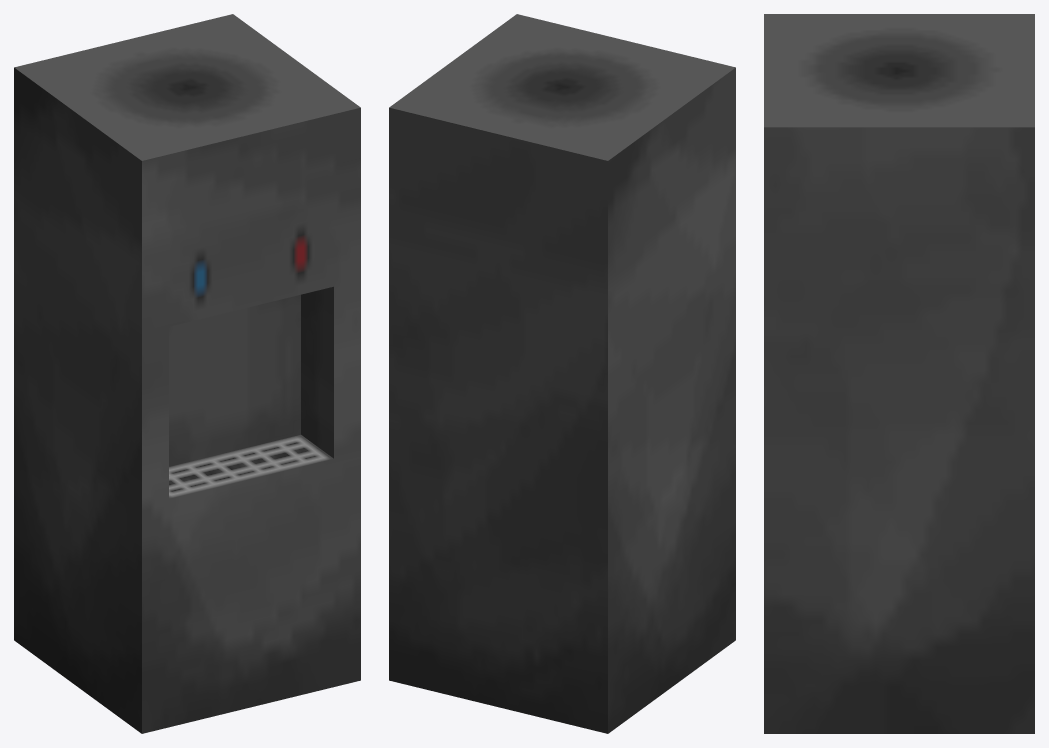
Rendered from Water Dispenser.obj.
3 renders of one model, left to right at view 1: azimuth 30°, elevation 25°; view 2: azimuth 150°, elevation 25°; view 3: azimuth 270°, elevation 25°, orthographic. The views are drawn at different scales.
Parts seen in each view (by area): view 1: Water_Dispenser; view 2: Water_Dispenser; view 3: Water_Dispenser.
Part boxes in pixels (x1,y1,x2,y2): Water_Dispenser: (14, 14, 360, 733); Water_Dispenser: (389, 14, 735, 733); Water_Dispenser: (764, 14, 1034, 733).
Bounding box in the file's own units: 4.03 × 10.08 × 4.08.
